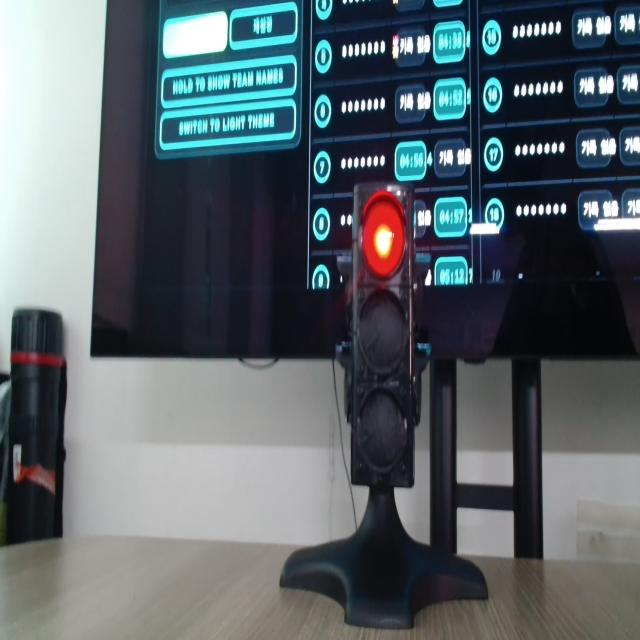red_light: (362, 191, 405, 277)
